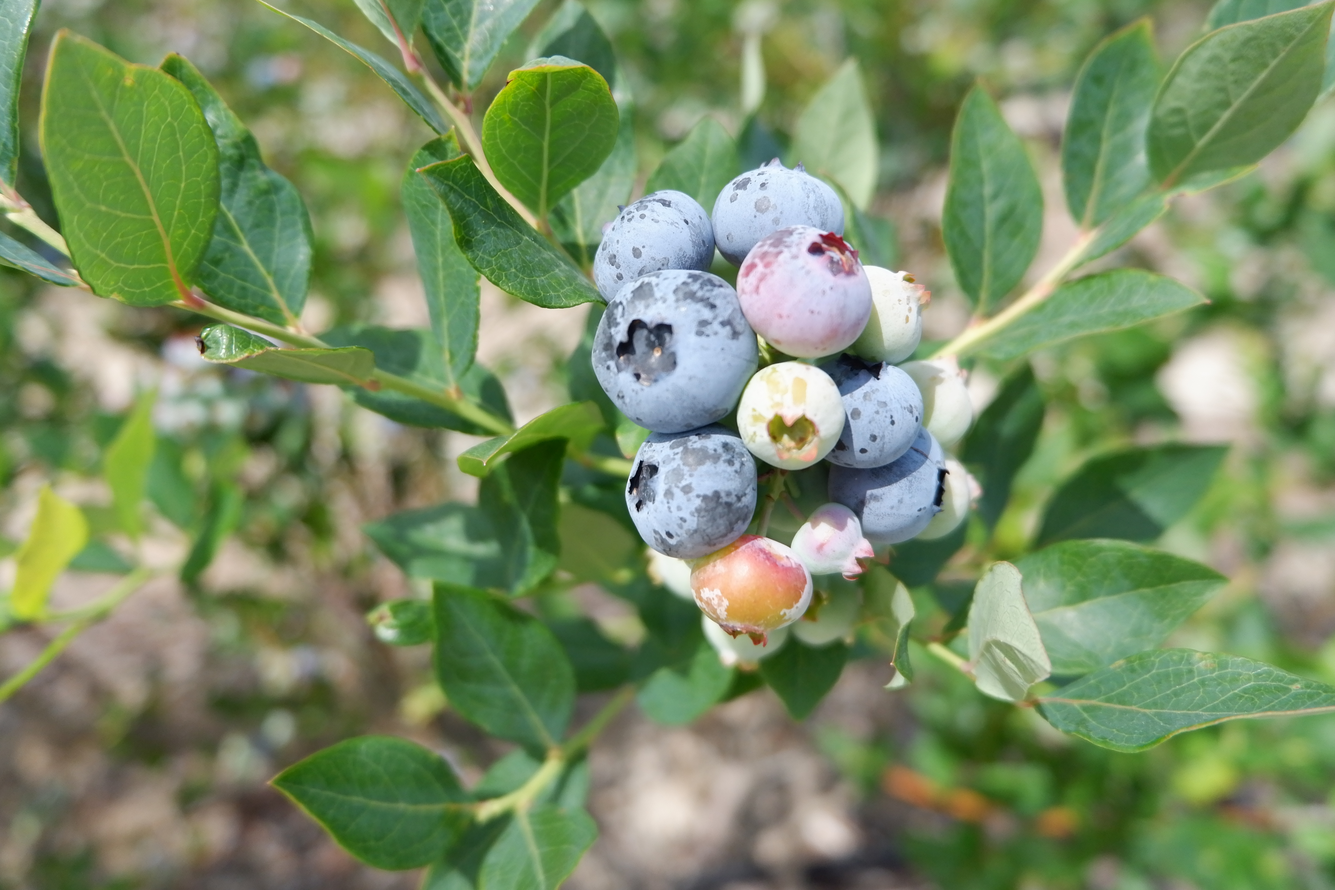Immature: (739, 226, 872, 354), (692, 538, 810, 636), (740, 364, 843, 466), (745, 458, 835, 547), (851, 268, 927, 360), (900, 358, 972, 443), (914, 450, 984, 537), (701, 611, 789, 672), (795, 506, 873, 574)
Mature: (597, 272, 756, 428), (630, 432, 756, 558), (712, 160, 846, 259), (596, 194, 713, 300), (830, 432, 942, 542), (823, 357, 922, 466)
